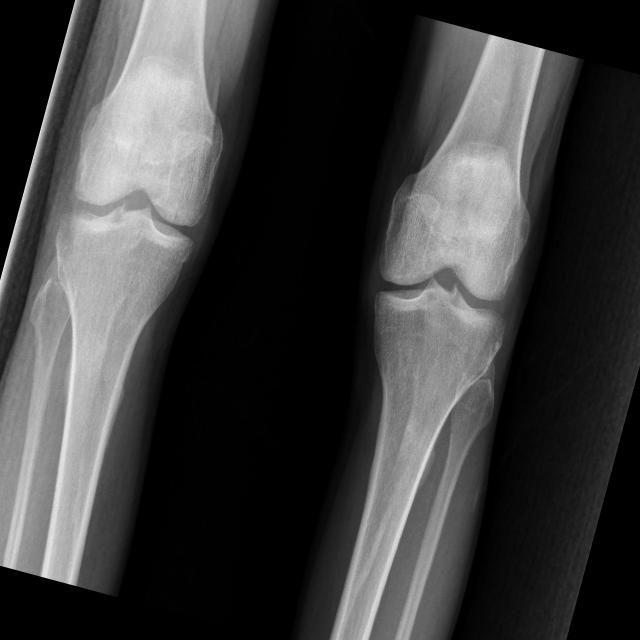Knee: (350, 216, 526, 380), (42, 134, 216, 296)
